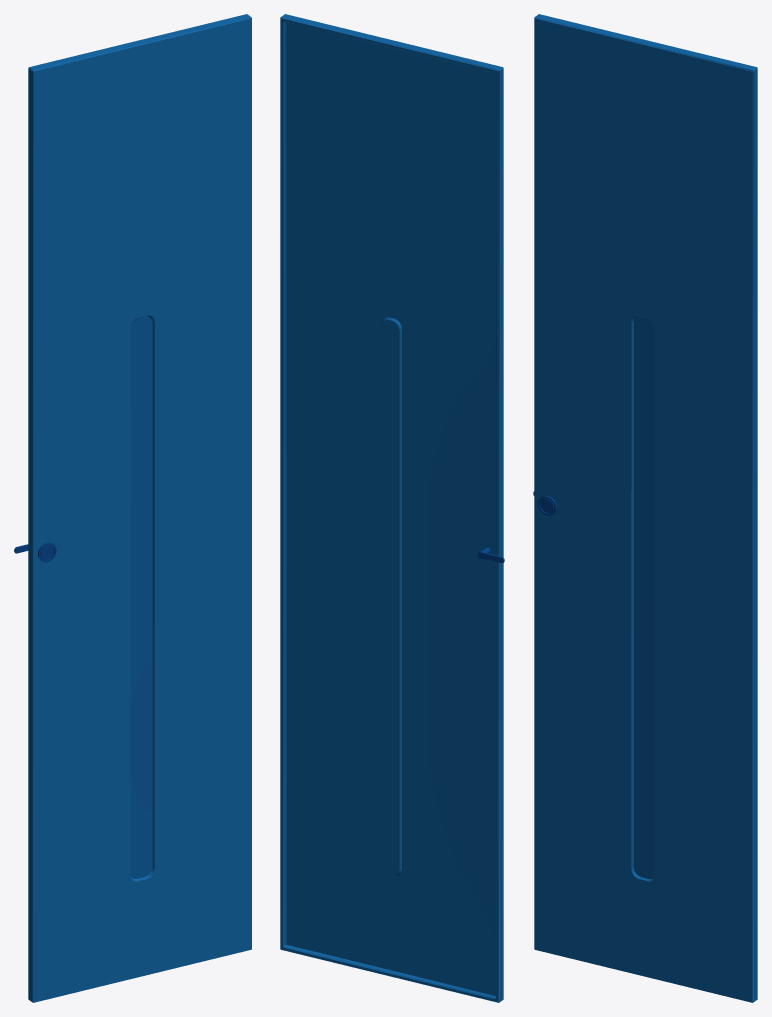
The model's file is SM_Locker_DoorSingle_Open_Blue.fbx.
3 views of the same model, side by side, from view 1: azimuth 30°, elevation 25°; view 2: azimuth 150°, elevation 25°; view 3: azimuth 330°, elevation 25° (orthographic).
Parts seen in each view (by area): view 1: SM_Locker_Door_Single_Blue; view 2: SM_Locker_Door_Single_Blue; view 3: SM_Locker_Door_Single_Blue.
Boxes of the visible parts, x1,y1,x2,y2 form: SM_Locker_Door_Single_Blue: [14, 14, 251, 1002]; SM_Locker_Door_Single_Blue: [280, 14, 504, 1002]; SM_Locker_Door_Single_Blue: [533, 14, 757, 1002].
Bounding box in the file's own units: 53.33 × 208 × 4.28.
